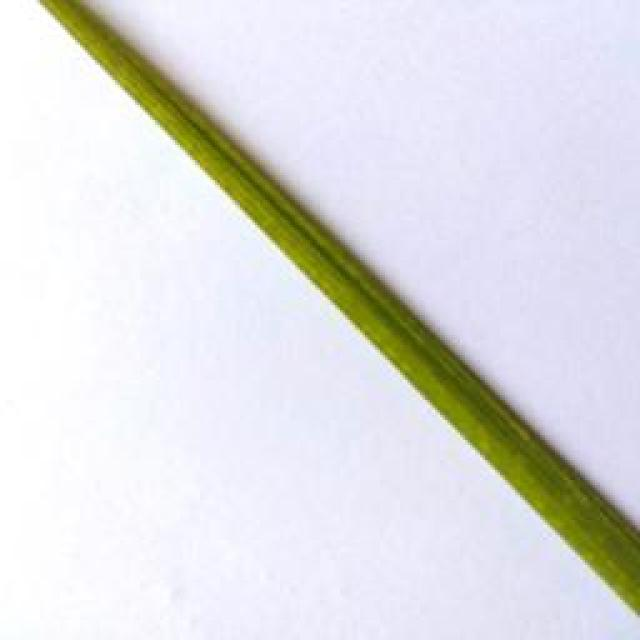Healthy-Plant: (43, 1, 326, 233), (266, 234, 479, 380), (408, 378, 586, 470), (498, 472, 640, 533), (557, 530, 640, 610)
